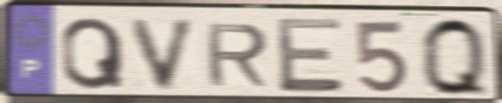5: (353, 18, 411, 95)
E: (273, 15, 347, 96)
Q: (417, 14, 492, 100), (58, 15, 128, 92)
R: (203, 21, 271, 88)
V: (127, 16, 203, 93)
